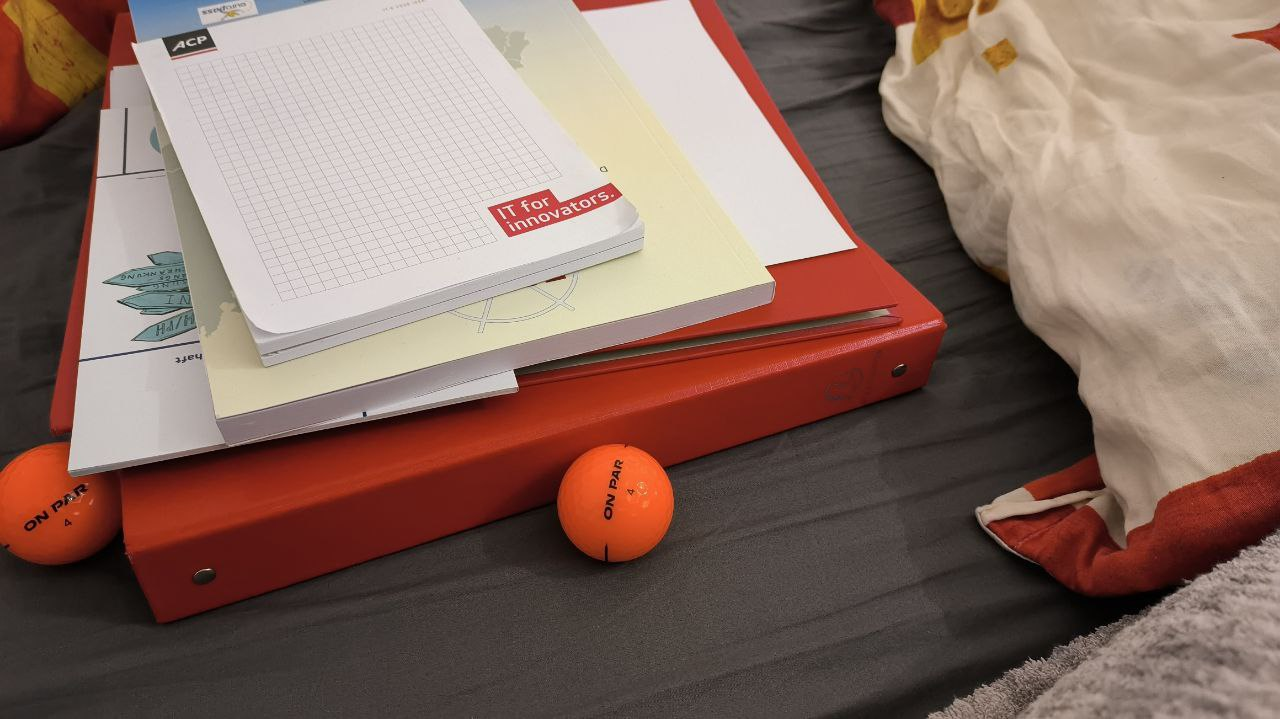orange_ball: (557, 443, 674, 562)
